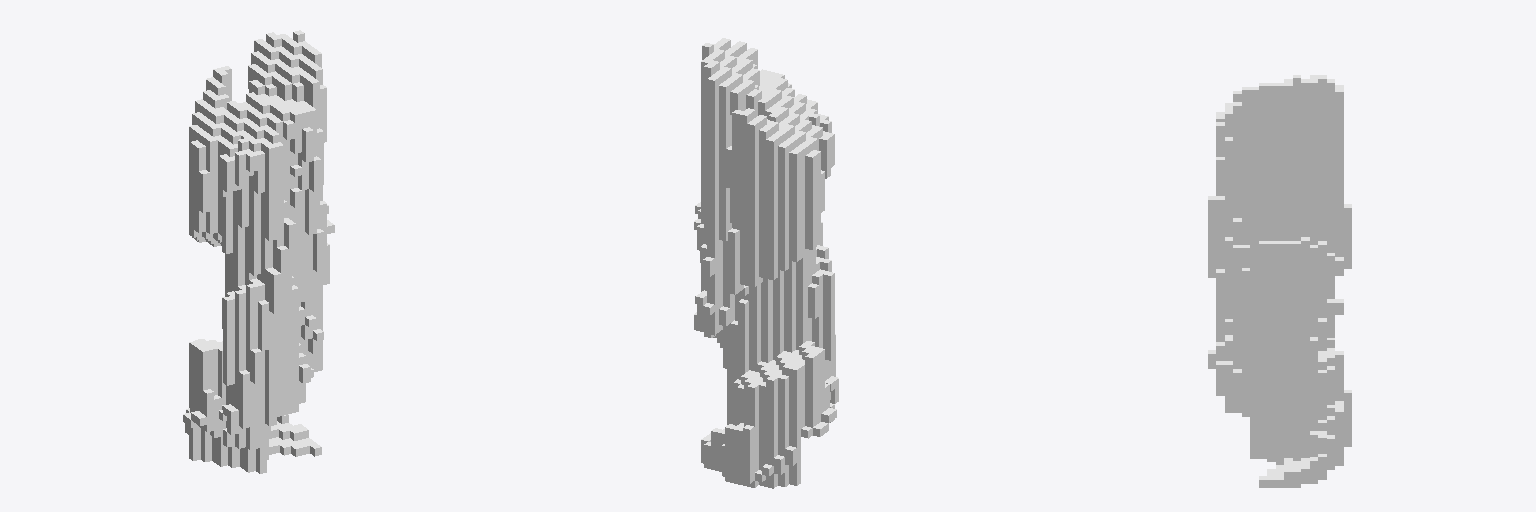
The model's file is pillar3.obj.
The picture shows the model from 3 angles: view 1: azimuth 30°, elevation 25°; view 2: azimuth 150°, elevation 25°; view 3: azimuth 270°, elevation 25°; orthographic projection.
Parts seen in each view (by area): view 1: object 1; view 2: object 1; view 3: object 1.
Boxes of the visible parts, x1=… form: object 1: x1=183, y1=30, x2=334, y2=473; object 1: x1=694, y1=38, x2=838, y2=488; object 1: x1=1208, y1=75, x2=1351, y2=487.
Size of the model in its own units: 1.7 by 5.3 by 1.7.